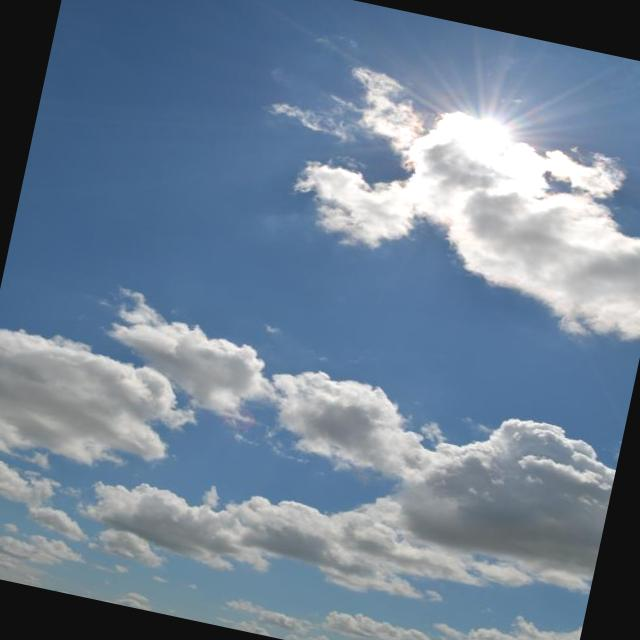cumulus: (382, 109, 640, 322), (390, 384, 624, 610), (0, 320, 180, 473)
